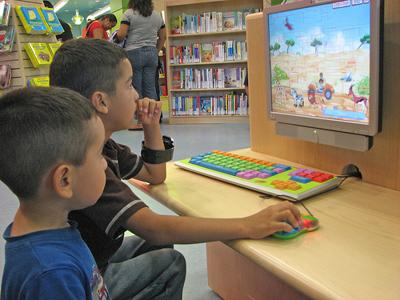person: (47, 38, 304, 300)
